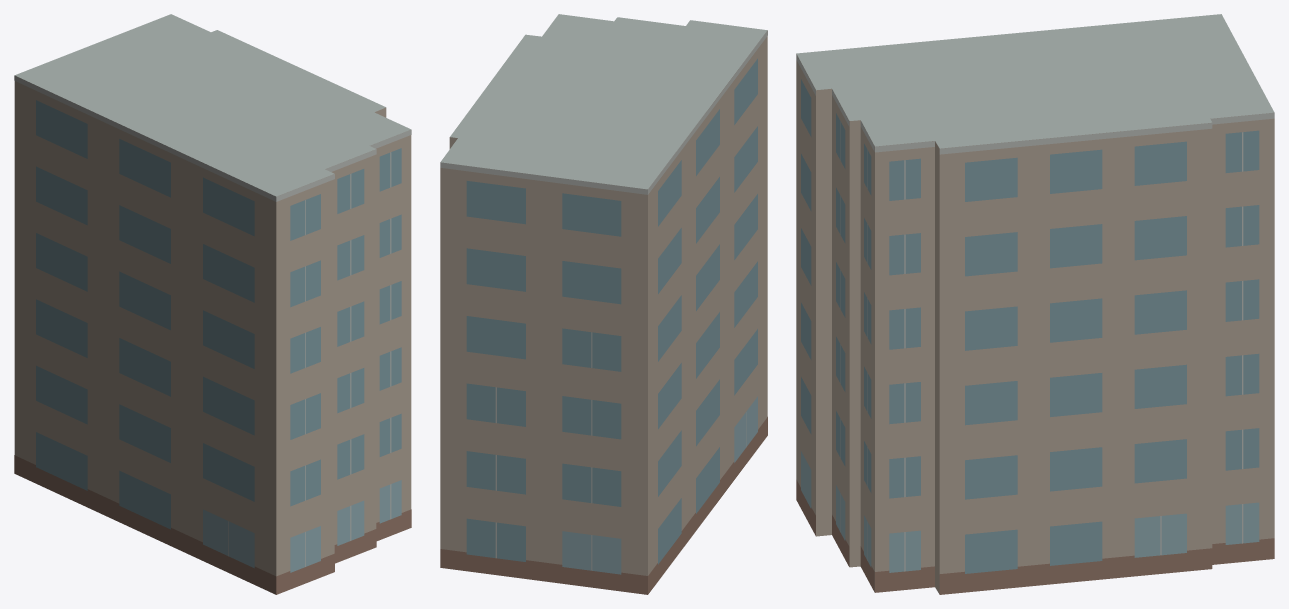
Rendered from survey-upis-32748149.glb.
3 renders of one model, left to right at view 1: azimuth 30°, elevation 25°; view 2: azimuth 150°, elevation 25°; view 3: azimuth 270°, elevation 25°, orthographic. The views are drawn at different scales.
Parts seen in each view (by area): view 1: survey-upis-32748149.tmp; view 2: survey-upis-32748149.tmp; view 3: survey-upis-32748149.tmp.
Part boxes in pixels (x1,y1,x2,y2): survey-upis-32748149.tmp: (14,14,411,594); survey-upis-32748149.tmp: (440,14,767,594); survey-upis-32748149.tmp: (796,14,1274,594).
Bounding box in the file's own units: 11.72 × 18.1 × 17.59.
